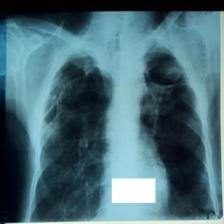tuberculosis: (28, 39, 219, 223)
